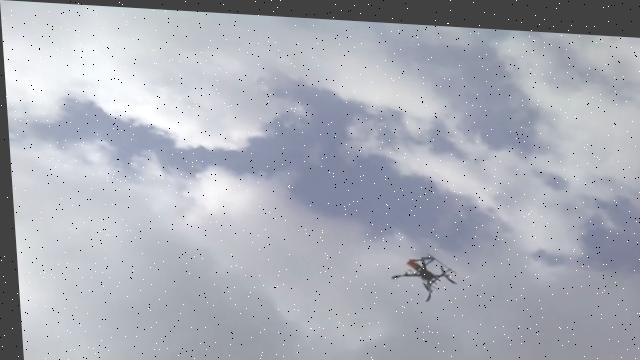drone: (383, 245, 458, 301)
